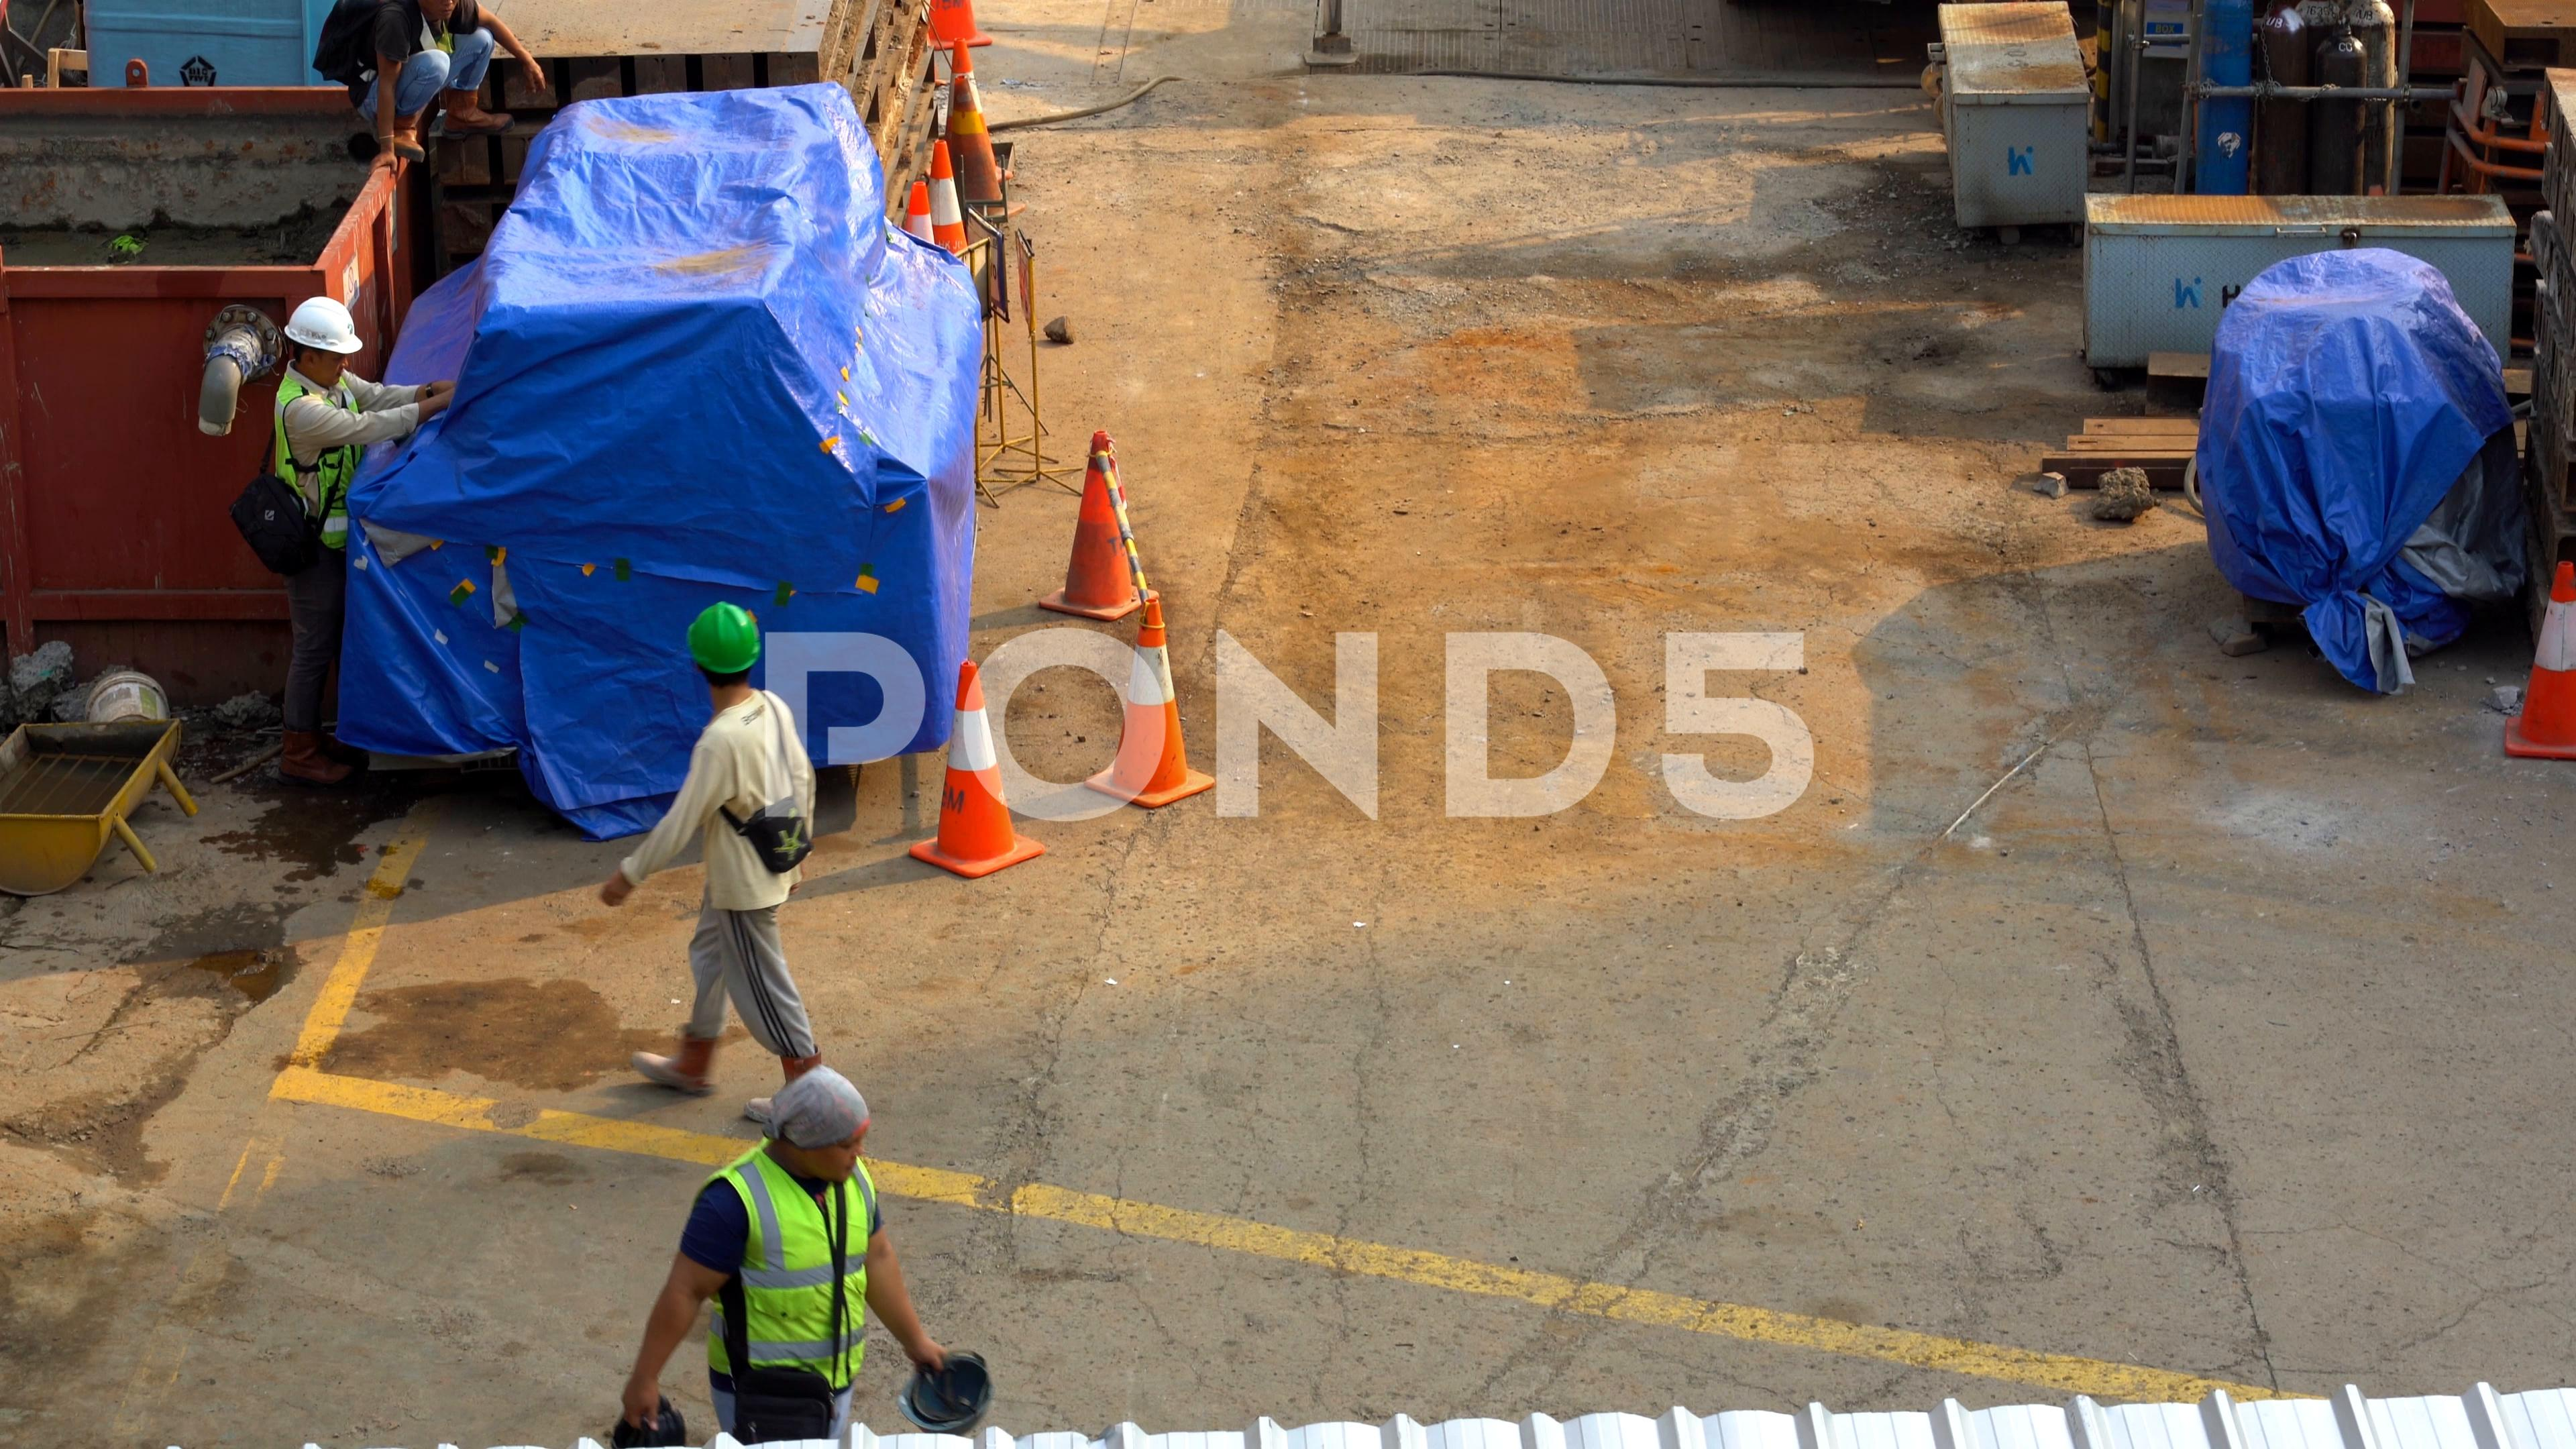hat: (641, 584, 826, 725), (262, 249, 386, 400)
no hat: (742, 1037, 910, 1222)
no vest: (645, 675, 866, 957), (279, 1, 534, 145)
vest: (645, 1118, 947, 1449), (215, 350, 433, 537)
